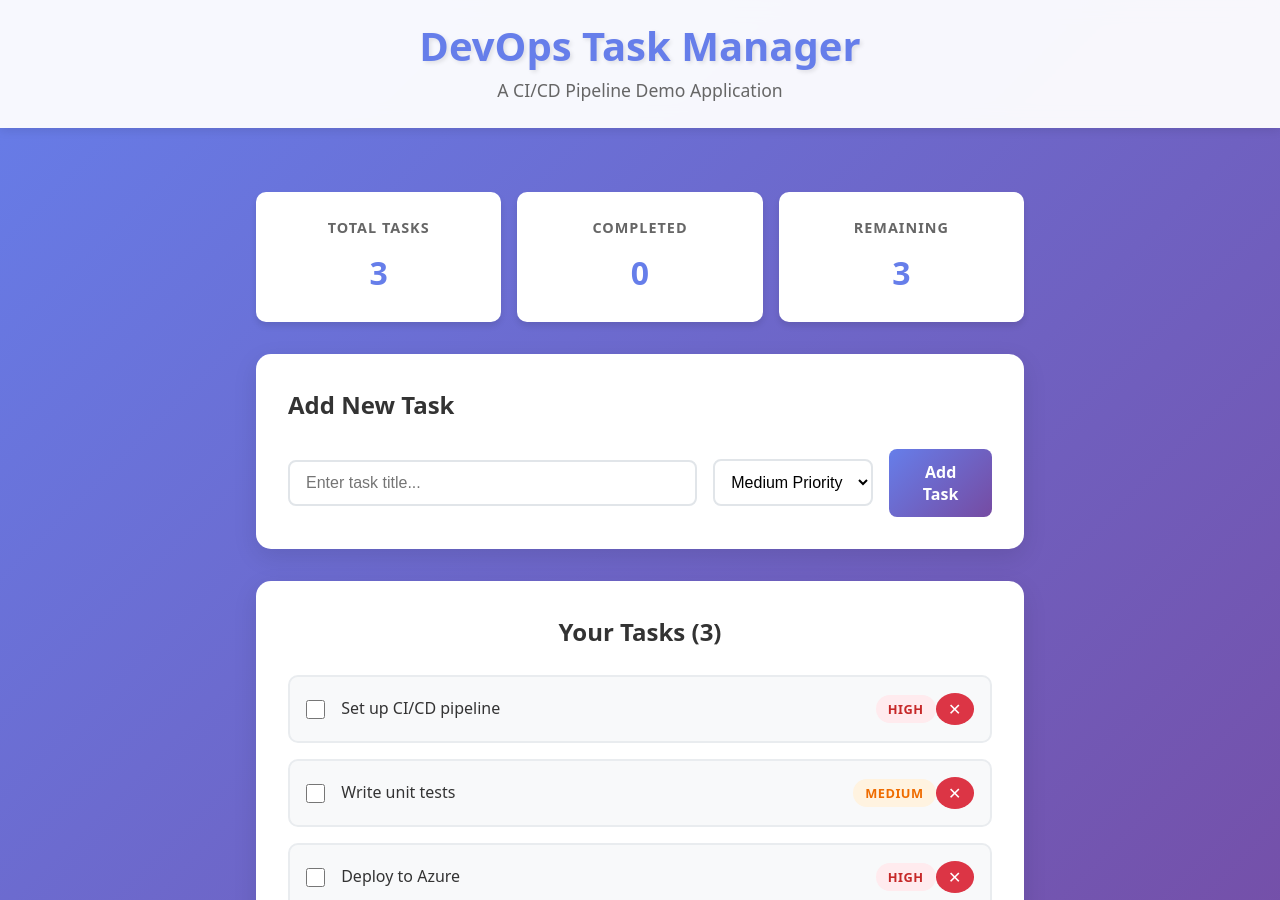
Scenario: App Component › deletes a task when delete button is clicked
Expected: the heading "Your Tasks (3)" is shown, [558,615,722,648]
Click the button named "Delete task" at (955, 709), box [936,693,974,725]
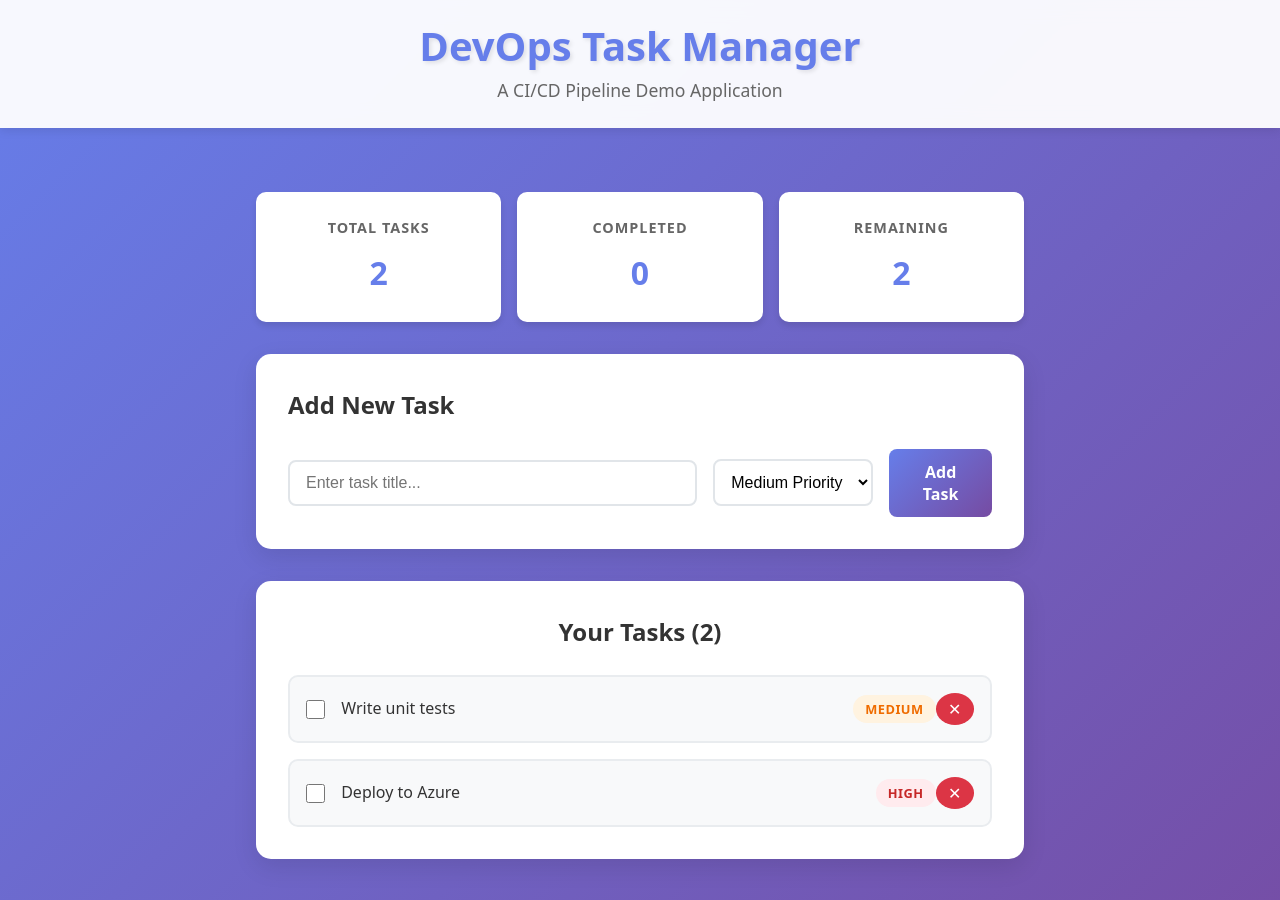
Expected: the heading "Your Tasks (2)" is shown, [558,615,722,648]
